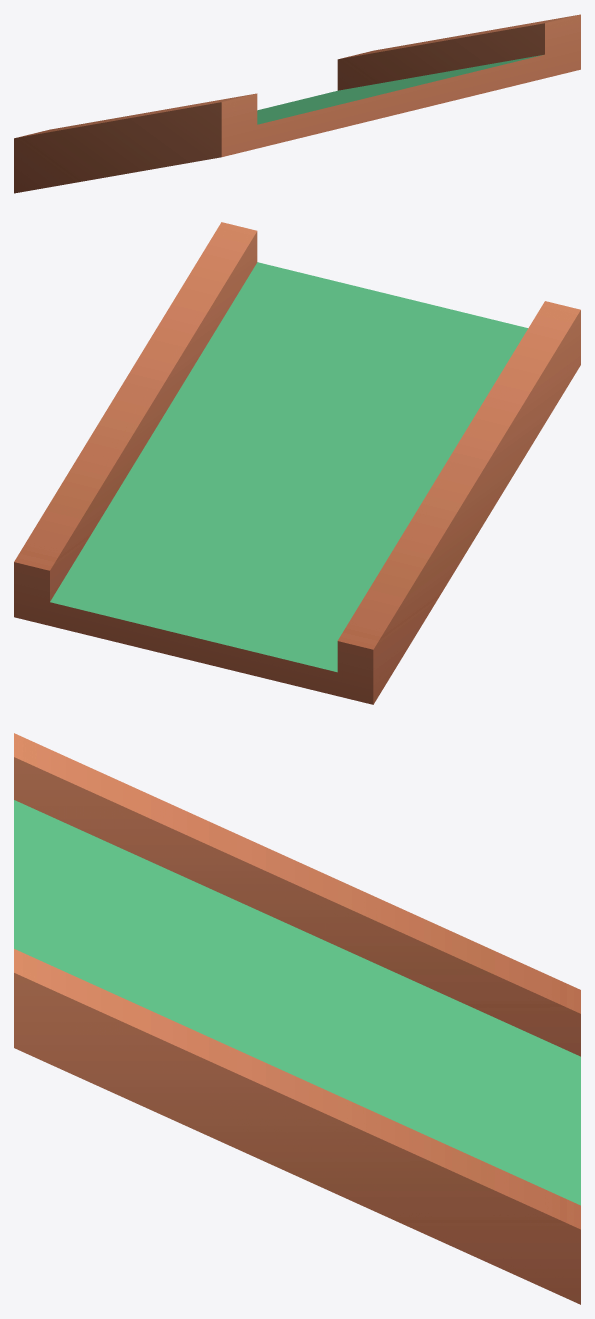
Rendered from ramp-high.glb.
3 renders of one model, top to bottom at view 1: azimuth 30°, elevation 25°; view 2: azimuth 150°, elevation 25°; view 3: azimuth 270°, elevation 25°, orthographic. The views are drawn at different scales.
Visible parts, largest first — view 1: ramp-high; view 2: ramp-high; view 3: ramp-high.
Part boxes in pixels (x1=…): ramp-high: x1=14, y1=14, x2=580, y2=193; ramp-high: x1=14, y1=222, x2=580, y2=704; ramp-high: x1=14, y1=733, x2=580, y2=1304.
Bounding box in the file's own units: 0.9999 × 0.6466 × 0.9999.
1 material, 1 textured.
